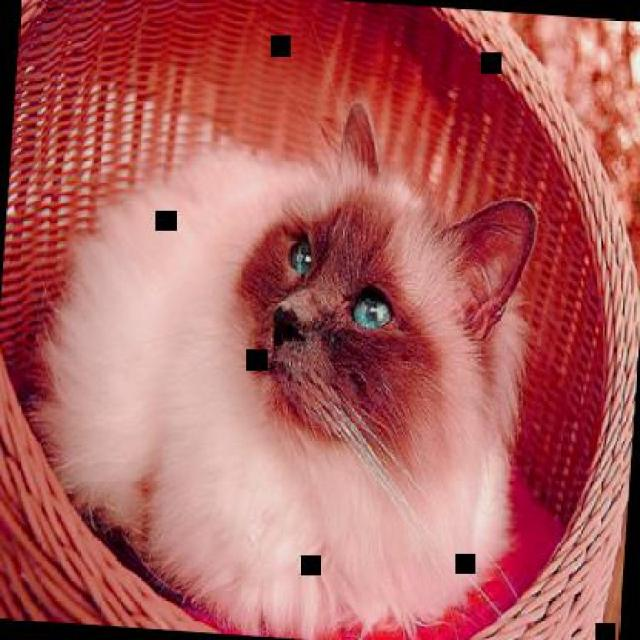cat: (28, 80, 548, 638)
